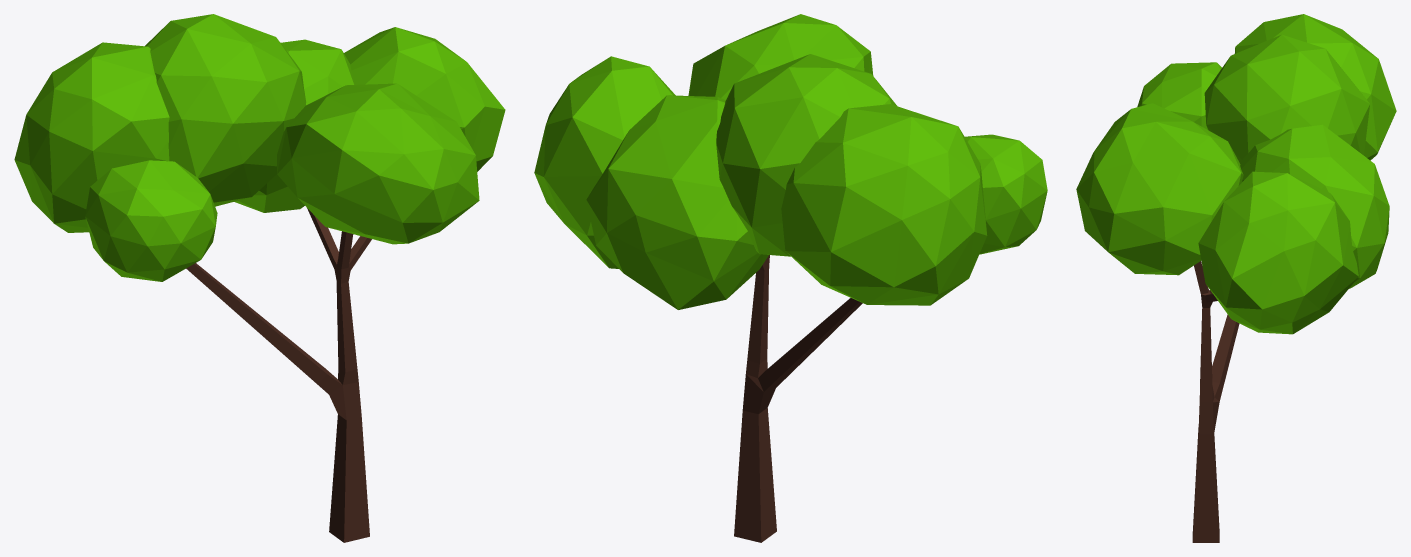
Rendered from lowPolyTree2.fbx.
3 renders of one model, left to right at view 1: azimuth 30°, elevation 25°; view 2: azimuth 150°, elevation 25°; view 3: azimuth 270°, elevation 25°, orthographic. The views are drawn at different scales.
Parts seen in each view (by area): view 1: Icosphere.004, Icosphere.001, Icosphere.002, Icosphere, Trunk, Icosphere.003, Icosphere.005; view 2: Icosphere.002, Icosphere.005, Icosphere.001, Icosphere.003, Trunk, Icosphere.004, Icosphere; view 3: Icosphere.004, Icosphere.003, Icosphere.001, Icosphere.005, Trunk, Icosphere.002, Icosphere.
Part boxes in pixels (x1=…): Icosphere.004: x1=277, y1=83, x2=479, y2=244; Icosphere.001: x1=145, y1=14, x2=306, y2=206; Icosphere.002: x1=14, y1=42, x2=169, y2=232; Icosphere: x1=85, y1=160, x2=217, y2=281; Trunk: x1=186, y1=208, x2=371, y2=542; Icosphere.003: x1=344, y1=27, x2=505, y2=171; Icosphere.005: x1=234, y1=39, x2=354, y2=212; Icosphere.002: x1=781, y1=104, x2=987, y2=305; Icosphere.005: x1=586, y1=95, x2=768, y2=309; Icosphere.001: x1=716, y1=54, x2=896, y2=256; Icosphere.003: x1=534, y1=56, x2=675, y2=268; Trunk: x1=734, y1=255, x2=862, y2=542; Icosphere.004: x1=688, y1=14, x2=873, y2=99; Icosphere: x1=965, y1=134, x2=1047, y2=254; Icosphere.004: x1=1076, y1=103, x2=1243, y2=275; Icosphere.003: x1=1198, y1=171, x2=1358, y2=334; Icosphere.001: x1=1204, y1=34, x2=1369, y2=163; Icosphere.005: x1=1240, y1=124, x2=1389, y2=288; Trunk: x1=1192, y1=261, x2=1239, y2=542; Icosphere.002: x1=1234, y1=14, x2=1396, y2=160; Icosphere: x1=1137, y1=62, x2=1221, y2=129.
Bounding box in the file's own units: 835 × 926 × 597.
